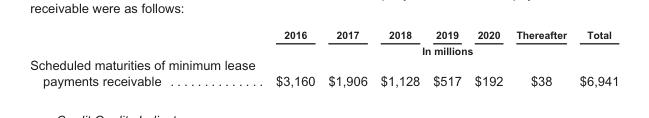table: (29, 28, 618, 87)
table column: (29, 28, 264, 87), (508, 28, 572, 87), (264, 28, 320, 87), (320, 28, 373, 87), (373, 28, 425, 87), (572, 28, 618, 87), (425, 28, 467, 87), (467, 28, 508, 87)
table column header: (29, 28, 618, 56)
table row: (29, 56, 618, 87), (29, 28, 618, 42), (29, 42, 618, 56)
table spanning cell: (264, 42, 618, 56)
